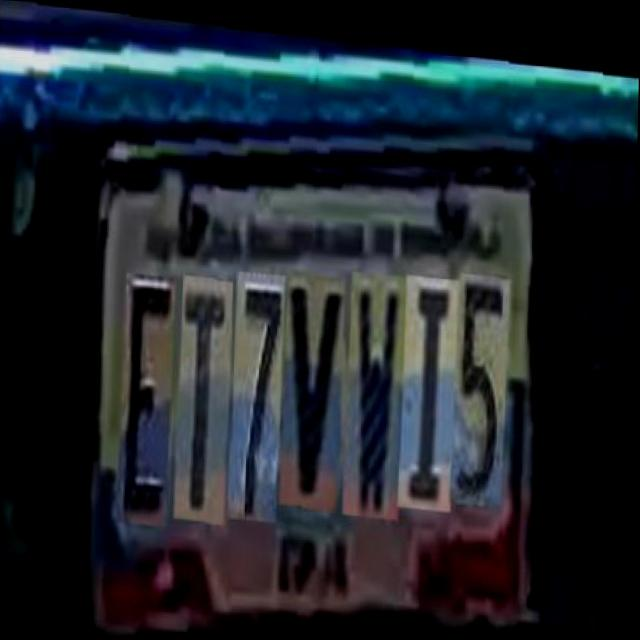5: (453, 255, 512, 489)
7: (231, 261, 287, 513)
e: (121, 267, 177, 521)
i: (402, 259, 462, 495)
t: (177, 269, 234, 516)
v: (283, 260, 346, 499)
w: (346, 258, 409, 506)
